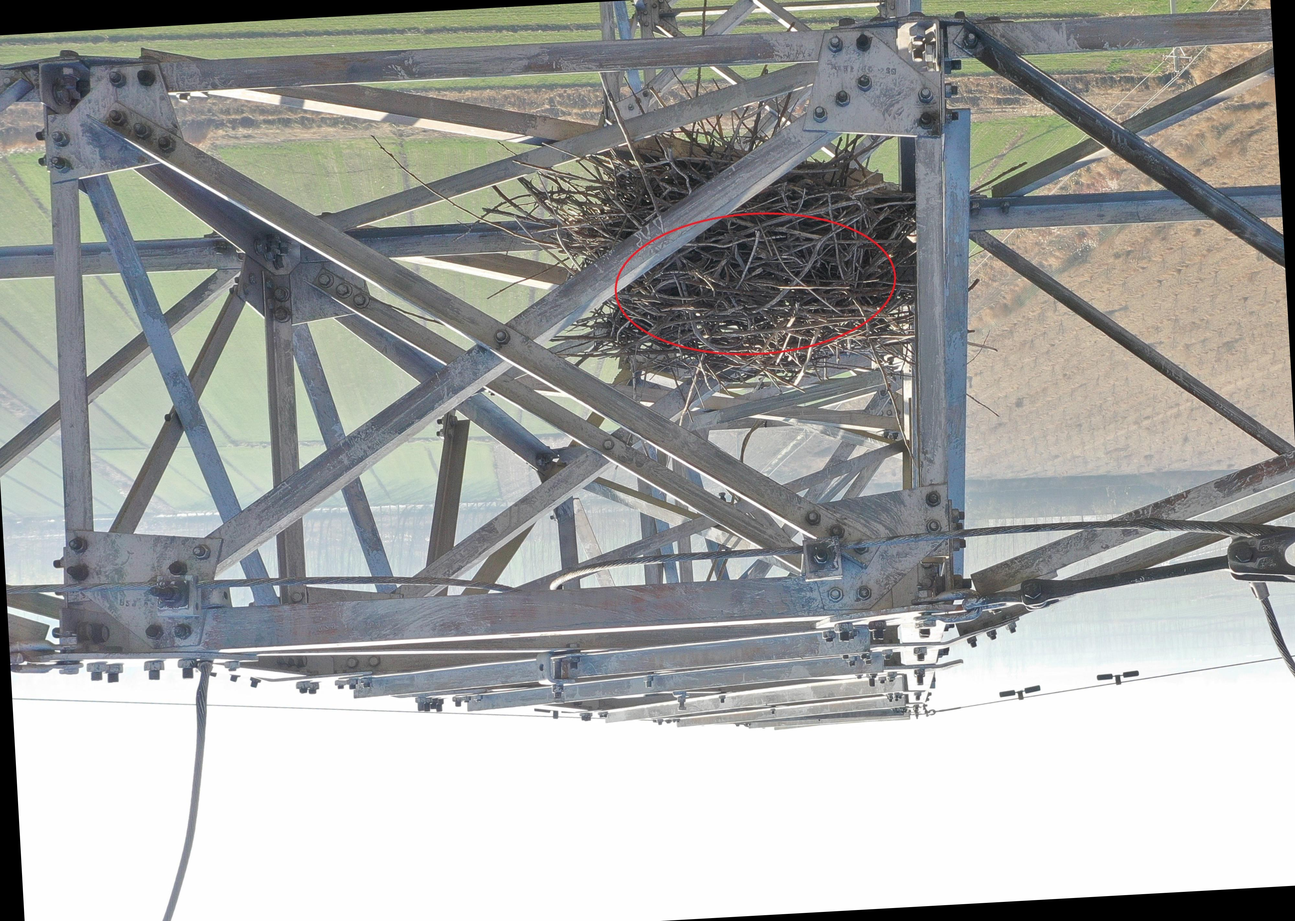damper_defect: (997, 683, 1043, 703), (1095, 668, 1141, 687)
